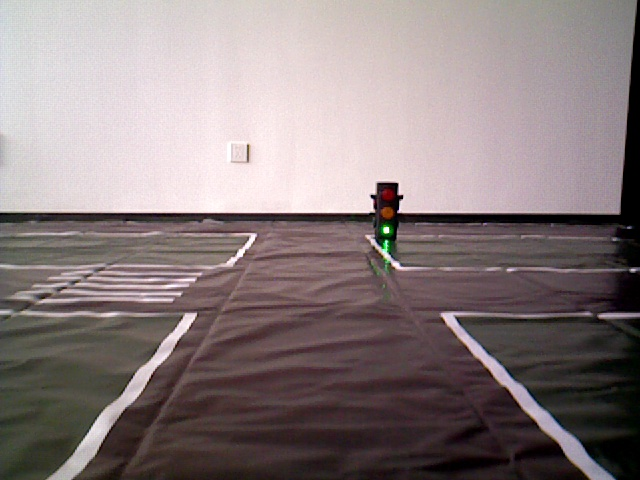green: (377, 184, 396, 236)
